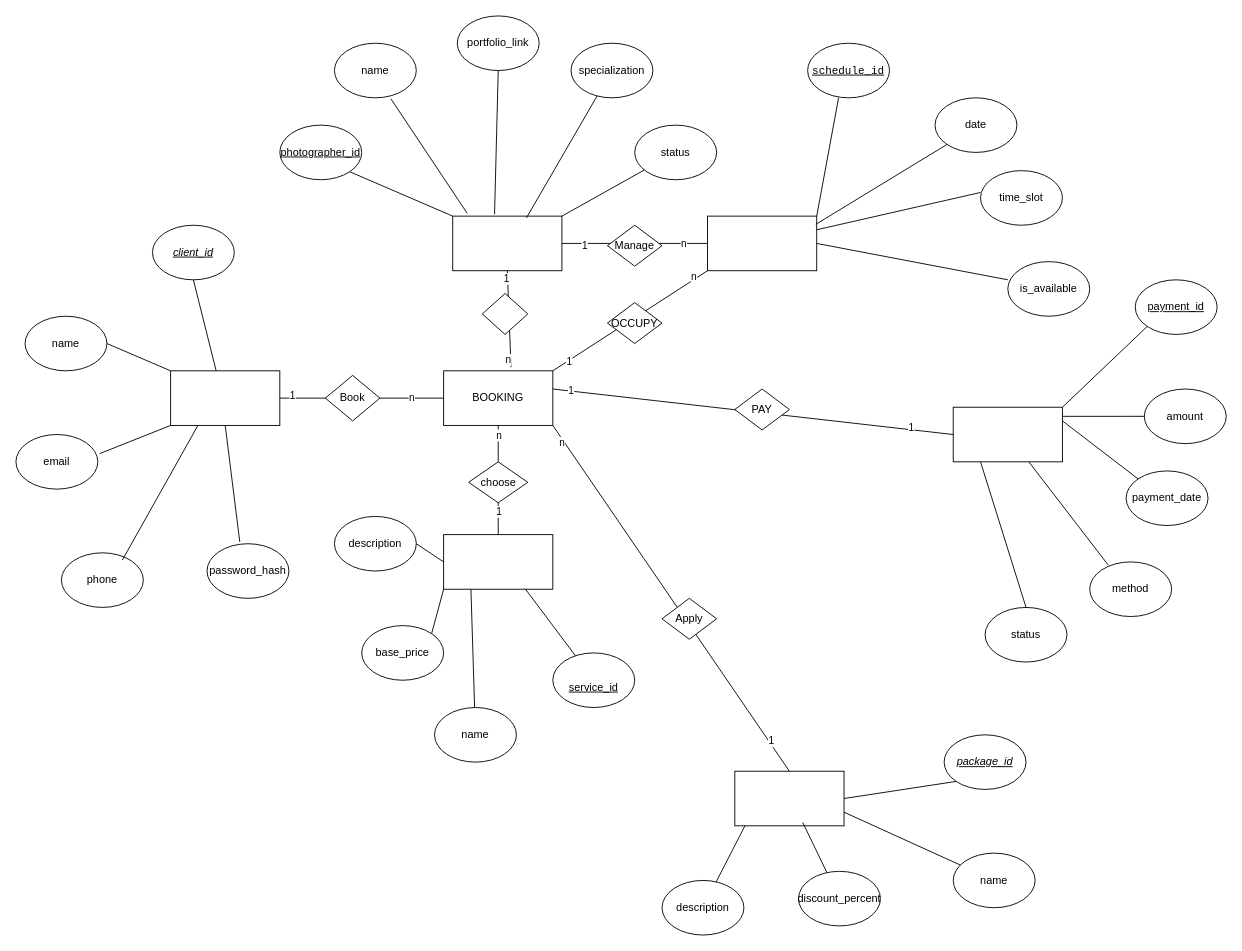
The diagram is 1242 pixels wide and 951 high, and some of its shapes have lost their labels. The centre of each missing label's shape, as x and y in pixels:
"Assign" goes at point 504,313.
"Client" goes at point 225,397.
"DISCOUNT_PACKAGE" goes at point 789,798.
"PAYMENT" goes at point 1007,434.
"PHOTOGRAPHER" goes at point 507,243.
"SCHEDULE" goes at point 762,243.
"SERVICE_TYPE" goes at point 498,561.
